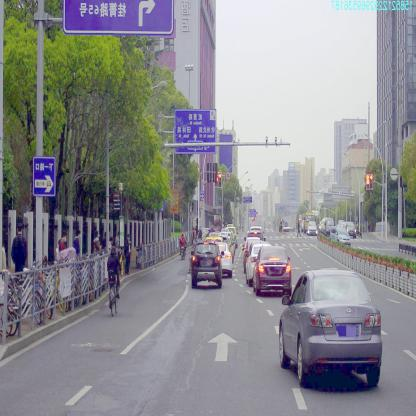traffic-light: (366, 174, 370, 189), (218, 173, 222, 186), (370, 174, 373, 189), (215, 172, 218, 187)
